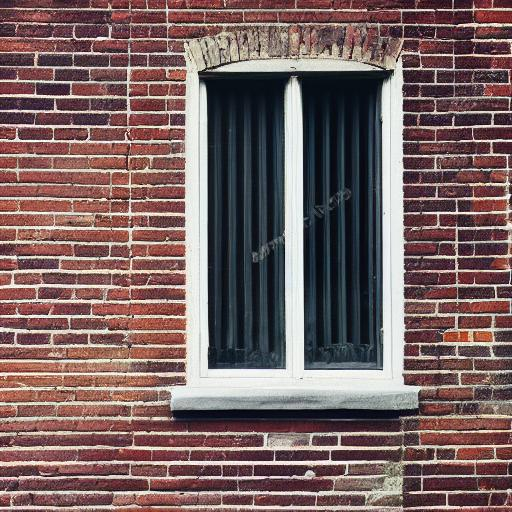Window: (168, 28, 425, 415)
